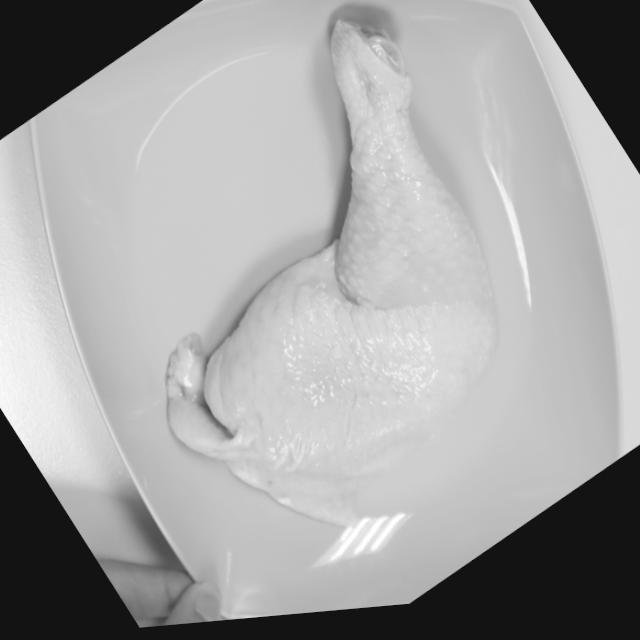quater: (178, 16, 498, 480)
